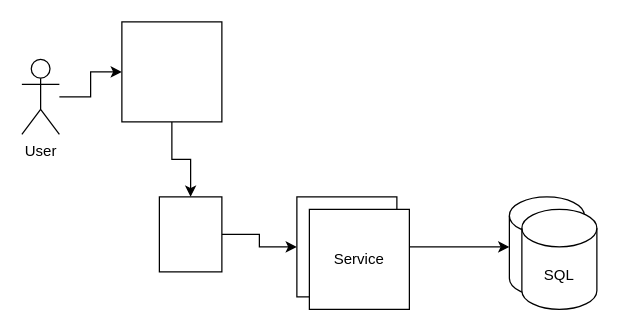
Image size: 619x331. Some labels were removed from this diagram. Each missing label, with the box of its shape:
Client: (121, 21, 222, 122)
LB: (158, 196, 222, 272)
